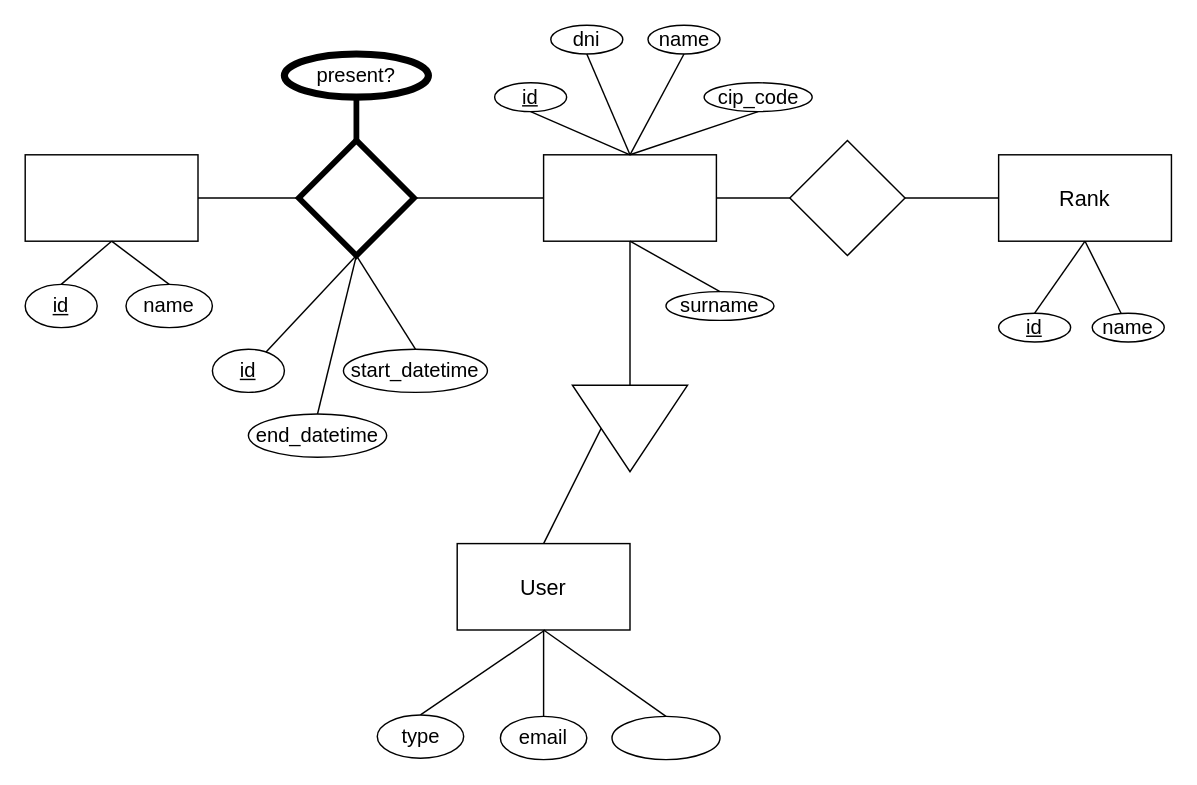
This 1197x785 diagram has some shape labels left out. The box of each missing label's shape, as (x1, y1, x2, y2) in pixels:
Does: (295, 137, 416, 258)
has: (788, 139, 905, 256)
password: (611, 715, 720, 760)
Person: (542, 153, 716, 241)
Task: (24, 153, 198, 241)
